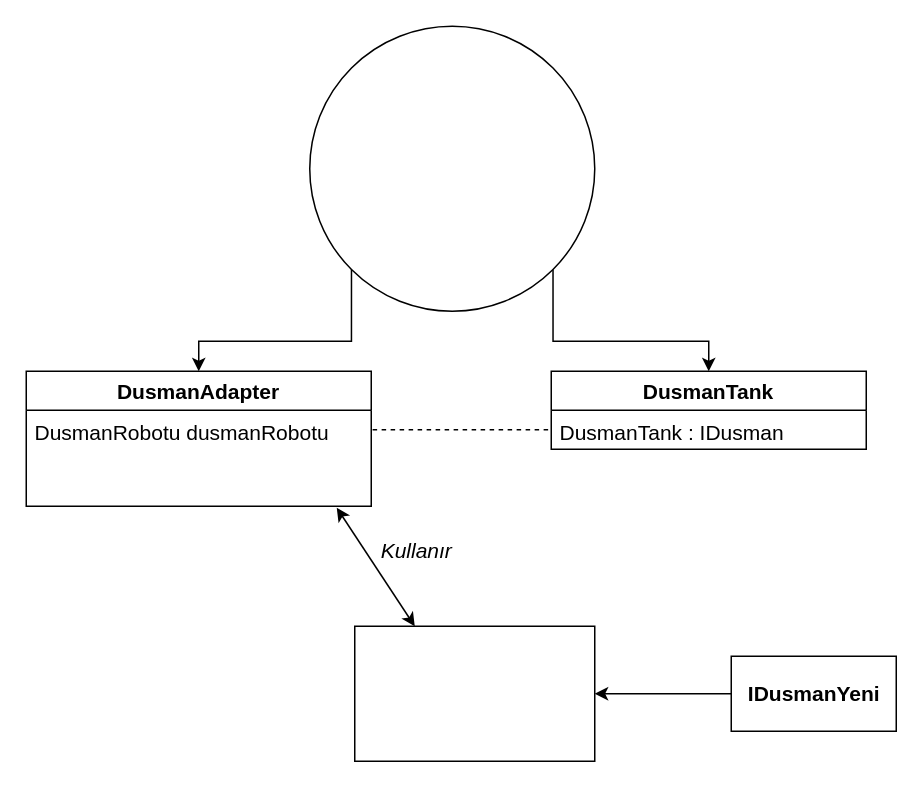
Image size: 923x788. Some labels were removed from this diagram. Here are the shapes that lost their labels. From the top down, the centre of each, then its label:
[451,168]: IDusman DusmanAdi() SilahKullan() Hizlan()
[474,693]: DusmanRobotu +void Yuru() +void YumrukAt() +void RobotIsmi()
